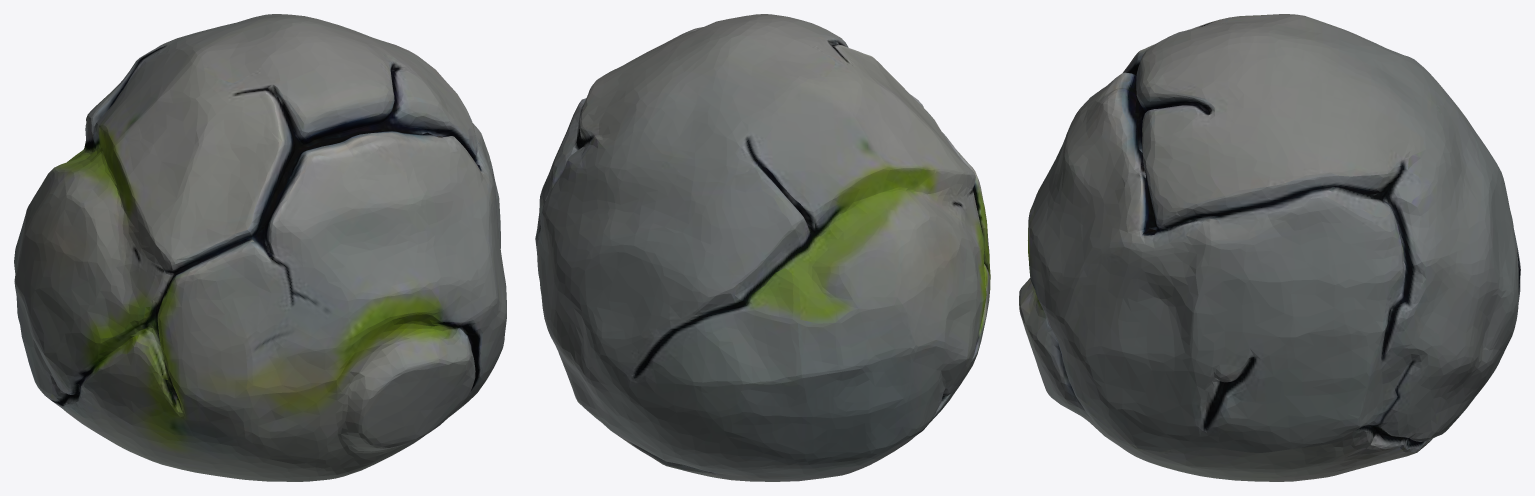
File: boulder.glb
3 renders of one model, left to right at view 1: azimuth 30°, elevation 25°; view 2: azimuth 150°, elevation 25°; view 3: azimuth 270°, elevation 25°, orthographic. The views are drawn at different scales.
Parts seen in each view (by area): view 1: tmp591ye5jz.ply; view 2: tmp591ye5jz.ply; view 3: tmp591ye5jz.ply.
Part boxes in pixels (bbox=[...]): tmp591ye5jz.ply: bbox=[14, 14, 506, 481]; tmp591ye5jz.ply: bbox=[535, 14, 990, 481]; tmp591ye5jz.ply: bbox=[1019, 14, 1520, 481].
Size of the model in its own units: 1.98 by 1.89 by 1.99.
Materials: 1 (1 with a texture image).
